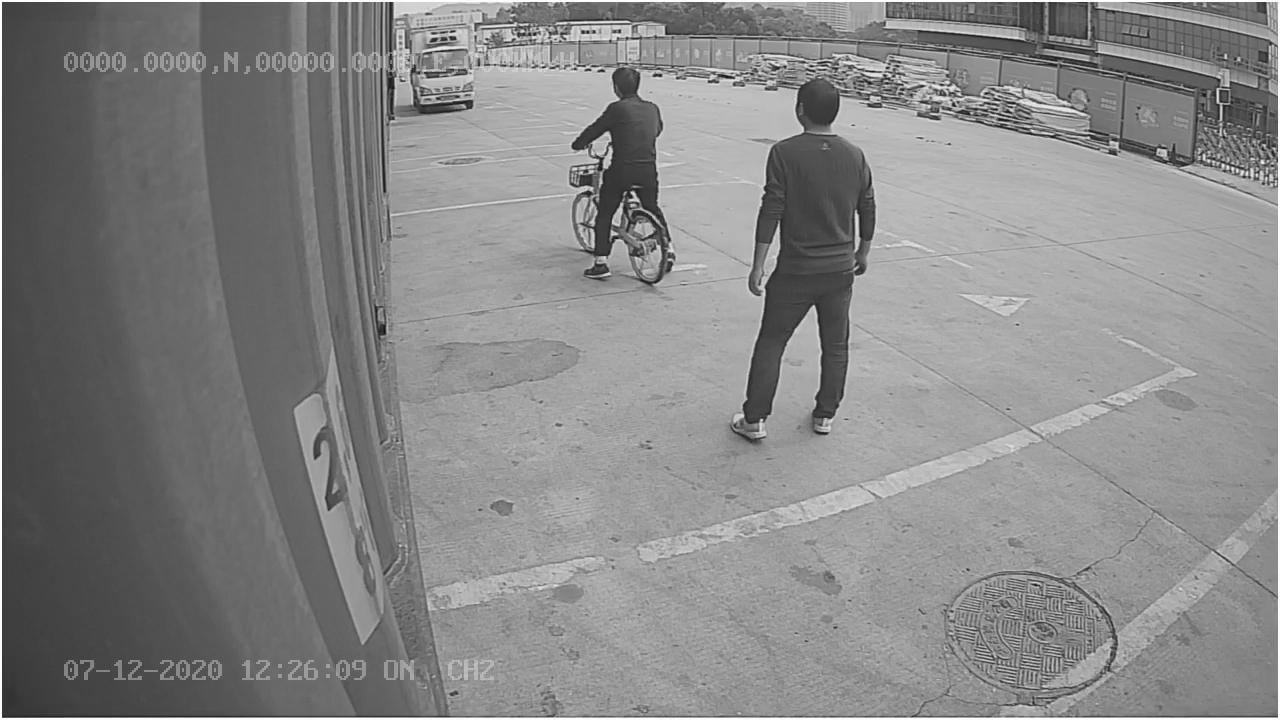person: (716, 75, 883, 445)
